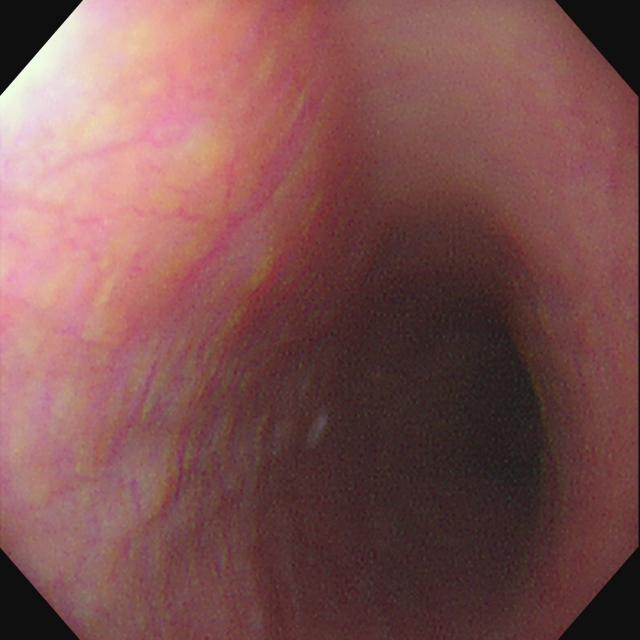E: (443, 374, 528, 569)
